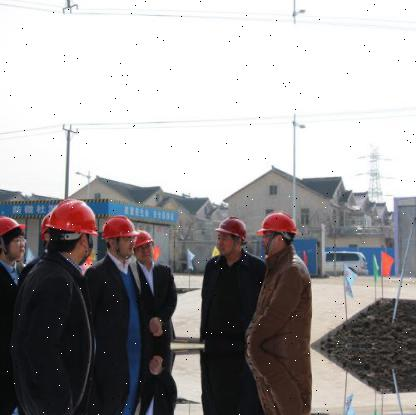helmet: (44, 198, 96, 264), (257, 210, 298, 256), (100, 213, 134, 259), (212, 215, 246, 258), (0, 215, 26, 259), (131, 229, 151, 262)
